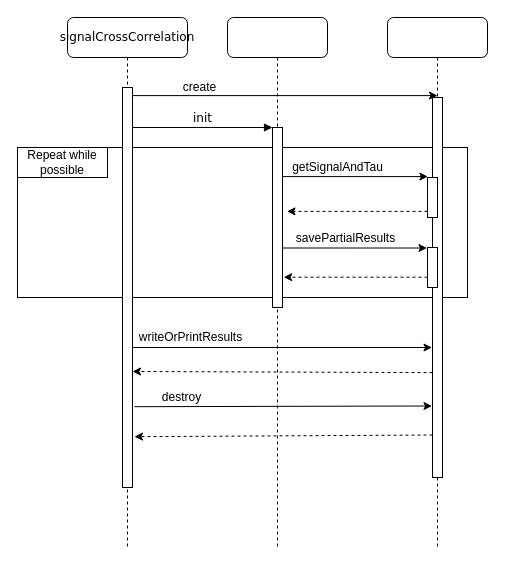
This 505x565 diagram has some shape labels left out. The centre of each missing label's shape, as x and y in pixels:
signalProc: point 437,282
worker(1..N): point 277,282
